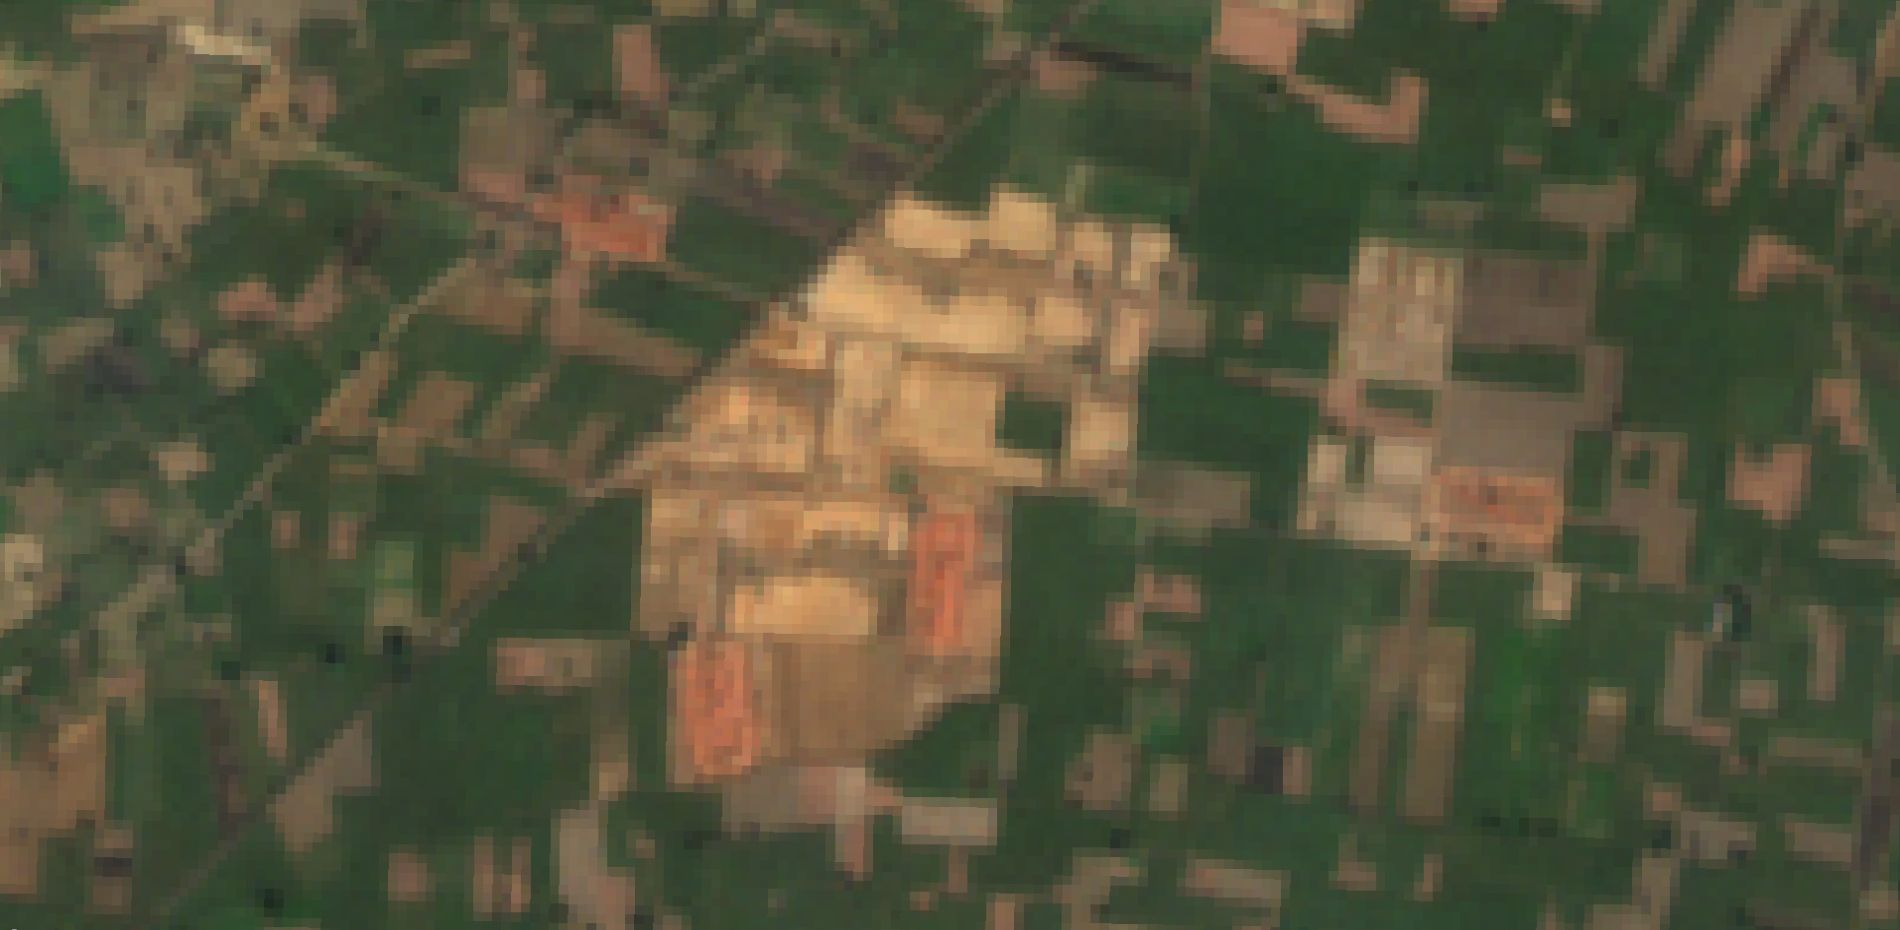brick_kiln: (540, 162, 669, 263), (908, 495, 982, 667), (671, 638, 757, 782), (1430, 466, 1560, 550)
